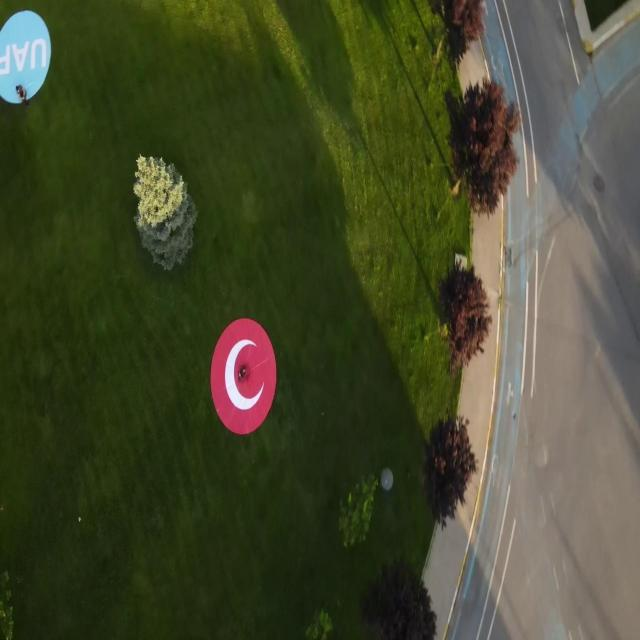p3rson: (238, 363, 249, 382), (16, 85, 26, 102)
